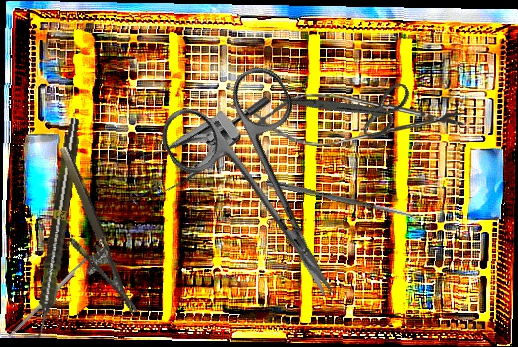Handpiece: (30, 116, 85, 341)
Iris Scissors: (151, 58, 384, 330), (278, 43, 422, 170)
Micro Scissor: (251, 91, 468, 147)
Needle Holder: (36, 144, 138, 326)
Scalpel Handle: (7, 256, 90, 339)
Speculum: (100, 47, 273, 229)
Surgical Spoon: (265, 179, 421, 222)
